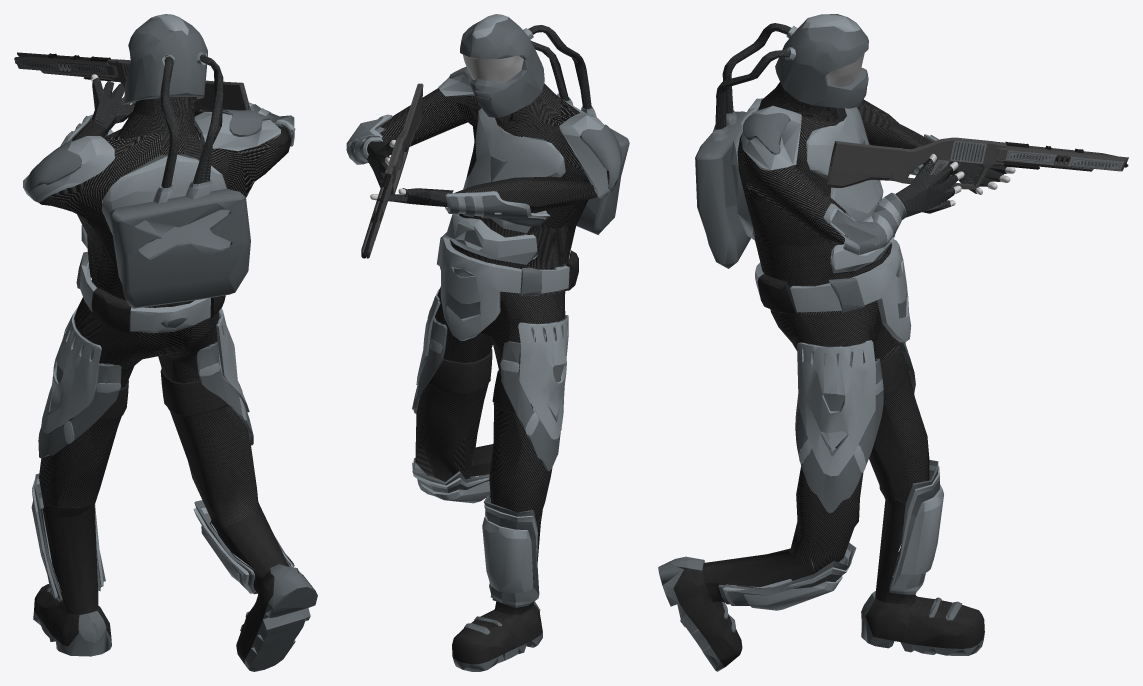
File: AndarEscopeta.0015.obj
3 renders of one model, left to right at view 1: azimuth 30°, elevation 25°; view 2: azimuth 150°, elevation 25°; view 3: azimuth 270°, elevation 25°, orthographic. The views are drawn at different scales.
Parts seen in each view (by area): view 1: personaje:extrudedSurface2 polySurface112, personaje:PANTALON polySurface112, personaje:bota1 polySurface112, personaje:CAMISETABUENA polySurface112, personaje:pPipe4 polySurface112, personaje:pCube4 polySurface112, personaje:cosoarmdaurapierna1 polySurface112, personaje:cinturon polySurface112, escopeta:Cylinder001 polySurface112, personaje:polySurface6 polySurface112, personaje:armadbota1 polySurface112, personaje:cosoarmadurapierna2 polySurface112 (+3 smaller); view 2: personaje:PANTALON polySurface112, personaje:CAMISETABUENA polySurface112, personaje:pPipe4 polySurface112, personaje:extrudedSurface2 polySurface112, personaje:cinturon polySurface112, personaje:pCube4 polySurface112, personaje:bota1 polySurface112, personaje:armadbota1 polySurface112, personaje:cosoarmdaurapierna1 polySurface112, escopeta:Cylinder001 polySurface112, personaje:polySurface6 polySurface112, personaje:polySurface2 polySurface112 (+6 smaller); view 3: personaje:bota1 polySurface112, personaje:CAMISETABUENA polySurface112, personaje:PANTALON polySurface112, personaje:extrudedSurface2 polySurface112, personaje:pPipe4 polySurface112, personaje:pCube4 polySurface112, escopeta:Cylinder001 polySurface112, personaje:cinturon polySurface112, personaje:armadbota1 polySurface112, personaje:cosoarmadurapierna2 polySurface112, personaje:hombro1 polySurface112, personaje:partearmdBRAZO2 polySurface112 (+2 smaller).
Boxes of the visible parts, box(x1,y1,x2,y2) form: personaje:extrudedSurface2 polySurface112: box(109, 14, 250, 308); personaje:PANTALON polySurface112: box(39, 279, 258, 548); personaje:bota1 polySurface112: box(33, 502, 317, 671); personaje:CAMISETABUENA polySurface112: box(36, 97, 290, 333); personaje:pPipe4 polySurface112: box(23, 77, 294, 248); personaje:pCube4 polySurface112: box(34, 308, 294, 601); personaje:cosoarmdaurapierna1 polySurface112: box(41, 308, 120, 443); personaje:cinturon polySurface112: box(76, 251, 225, 333); escopeta:Cylinder001 polySurface112: box(14, 52, 250, 111); personaje:polySurface6 polySurface112: box(96, 368, 228, 422); personaje:armadbota1 polySurface112: box(31, 478, 293, 598); personaje:cosoarmadurapierna2 polySurface112: box(196, 341, 253, 445); personaje:PANTALON polySurface112: box(415, 259, 565, 523); personaje:CAMISETABUENA polySurface112: box(363, 57, 617, 295); personaje:pPipe4 polySurface112: box(346, 73, 613, 264); personaje:extrudedSurface2 polySurface112: box(460, 14, 629, 234); personaje:cinturon polySurface112: box(437, 232, 578, 340); personaje:pCube4 polySurface112: box(412, 289, 564, 607); personaje:bota1 polySurface112: box(452, 444, 542, 671); personaje:armadbota1 polySurface112: box(412, 462, 537, 605); personaje:cosoarmdaurapierna1 polySurface112: box(500, 315, 568, 439); escopeta:Cylinder001 polySurface112: box(361, 83, 423, 258); personaje:polySurface6 polySurface112: box(428, 349, 514, 409); personaje:polySurface2 polySurface112: box(446, 195, 546, 226); personaje:bota1 polySurface112: box(658, 487, 984, 671); personaje:CAMISETABUENA polySurface112: box(737, 82, 932, 314); personaje:PANTALON polySurface112: box(770, 259, 929, 580); personaje:extrudedSurface2 polySurface112: box(695, 14, 868, 268); personaje:pPipe4 polySurface112: box(730, 98, 1007, 273); personaje:pCube4 polySurface112: box(718, 340, 939, 605); escopeta:Cylinder001 polySurface112: box(826, 137, 1128, 189); personaje:cinturon polySurface112: box(755, 239, 911, 342); personaje:armadbota1 polySurface112: box(722, 465, 943, 610); personaje:cosoarmadurapierna2 polySurface112: box(795, 351, 883, 513); personaje:hombro1 polySurface112: box(743, 113, 790, 154); personaje:partearmdBRAZO2 polySurface112: box(823, 193, 906, 255).
Size of the model in its own units: 4.22 by 9.47 by 6.19.
